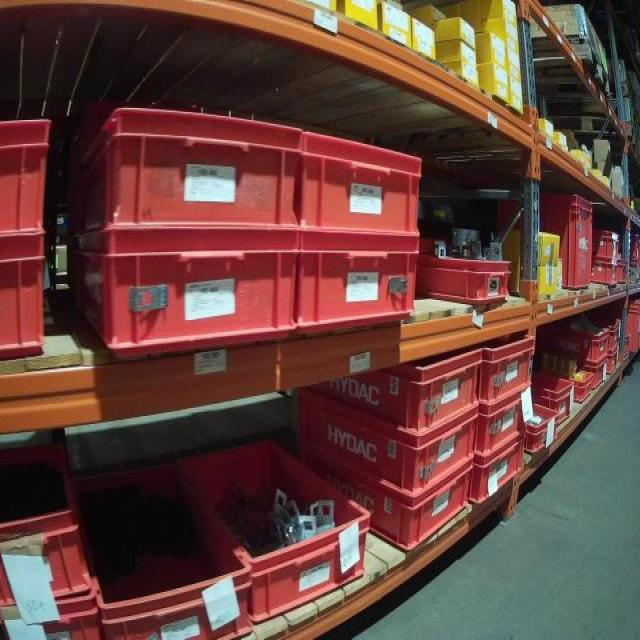pallet: (517, 34, 615, 103), (540, 108, 637, 154)
small_load_carrier: (57, 106, 302, 254), (185, 459, 370, 624), (78, 470, 254, 635), (65, 245, 295, 350), (302, 402, 479, 505), (302, 347, 486, 437), (299, 458, 472, 553), (2, 443, 96, 606), (306, 123, 424, 249), (294, 236, 422, 340), (504, 196, 595, 294), (2, 117, 50, 251), (2, 239, 50, 362), (424, 252, 515, 312), (479, 431, 529, 507), (473, 338, 534, 398), (479, 403, 528, 464), (541, 318, 607, 361), (530, 371, 575, 425), (540, 353, 611, 384), (600, 304, 637, 362), (6, 613, 94, 637), (552, 371, 593, 406), (530, 401, 556, 453), (596, 226, 618, 263), (598, 312, 618, 352), (594, 257, 618, 284), (606, 349, 619, 375), (618, 258, 630, 283)
